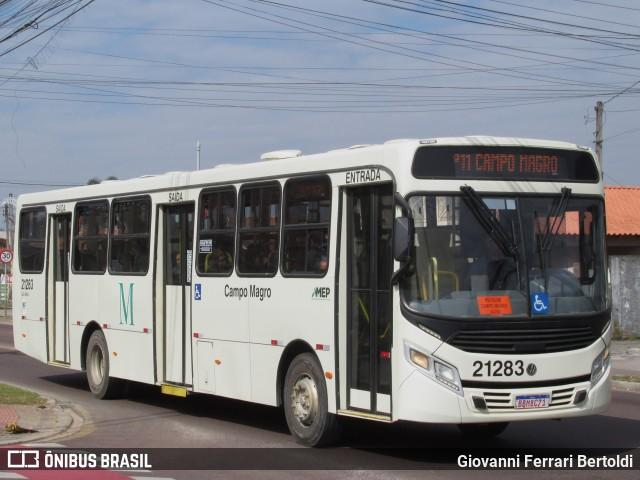CAMPO MAGRO: (473, 148, 563, 181)
